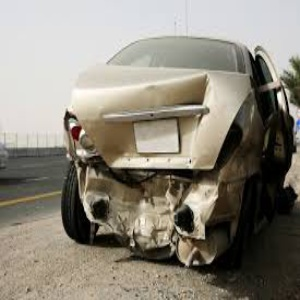bonnet: (76, 62, 243, 168)
bumper: (79, 179, 227, 265)
